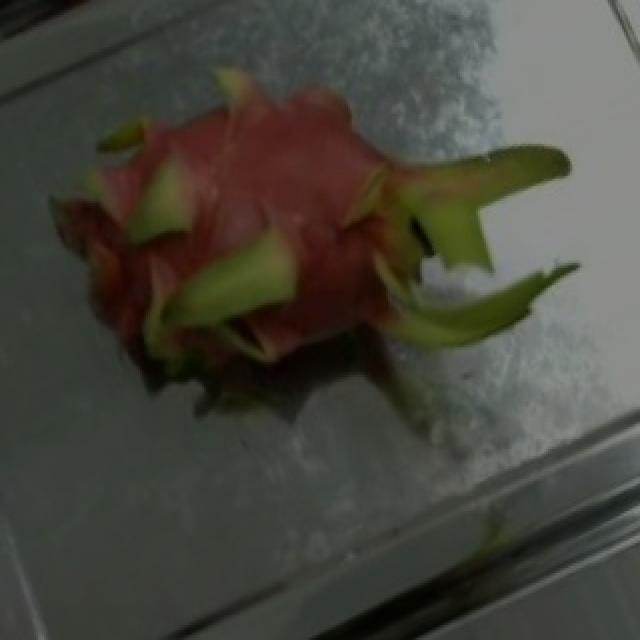fruit: (174, 10, 598, 469), (0, 5, 382, 434)
